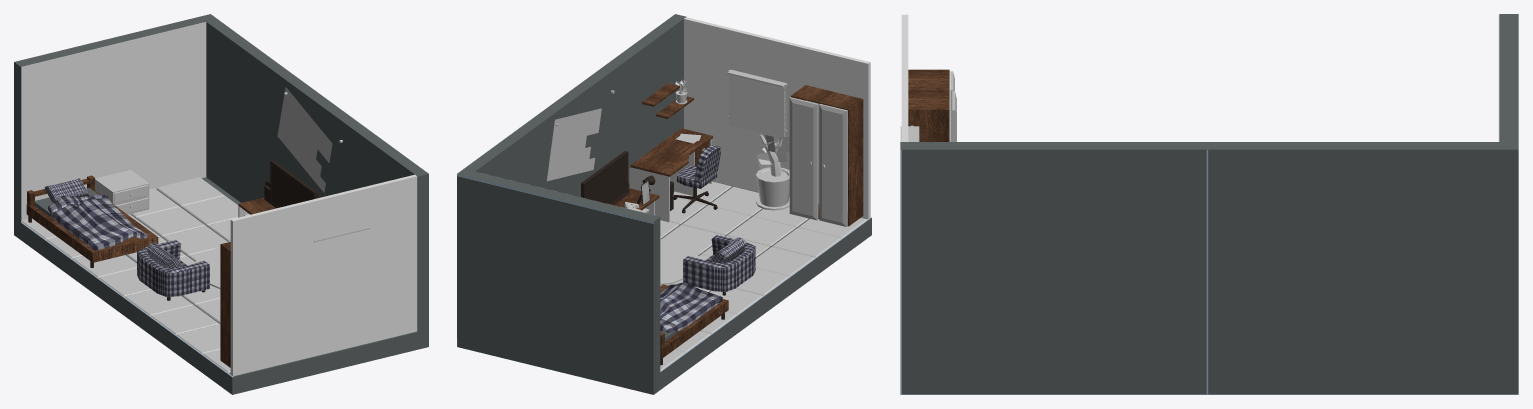
The model's file is manRoom_mirror_last.FBX.
3 views of the same model, side by side, from view 1: azimuth 30°, elevation 25°; view 2: azimuth 150°, elevation 25°; view 3: azimuth 270°, elevation 25° (orthographic). The views are drawn at different scales.
Visible parts, largest first — view 1: tex1, Box022, Box021, tex2; view 2: tex1, tex2, Box022, door2, door1; view 3: tex1, Box022.
Part boxes in pixels (x1,y1,x2,y2): tex1: (14,14,428,394); Box022: (230,174,417,376); Box021: (21,22,206,220); tex2: (21,87,370,372); tex1: (457,14,871,394); tex2: (547,69,866,370); Box022: (684,17,870,218); door2: (789,97,818,220); door1: (819,104,847,226); tex1: (900,14,1518,394); Box022: (901,14,908,141).
Size of the model in its own units: 102 by 85.95 by 196.
